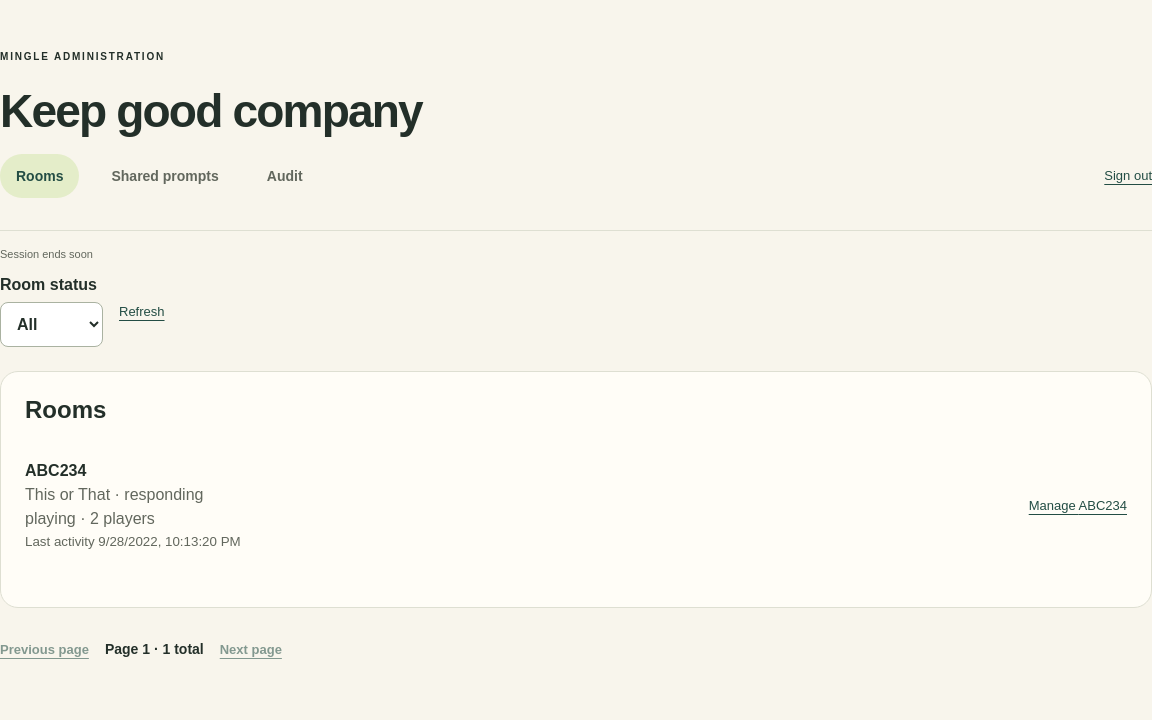
Test case: does not reoffer a confirmed mutation when refreshing room details fails
Click the button "Manage ABC234" at (1078,505), box [1029, 488, 1127, 522]
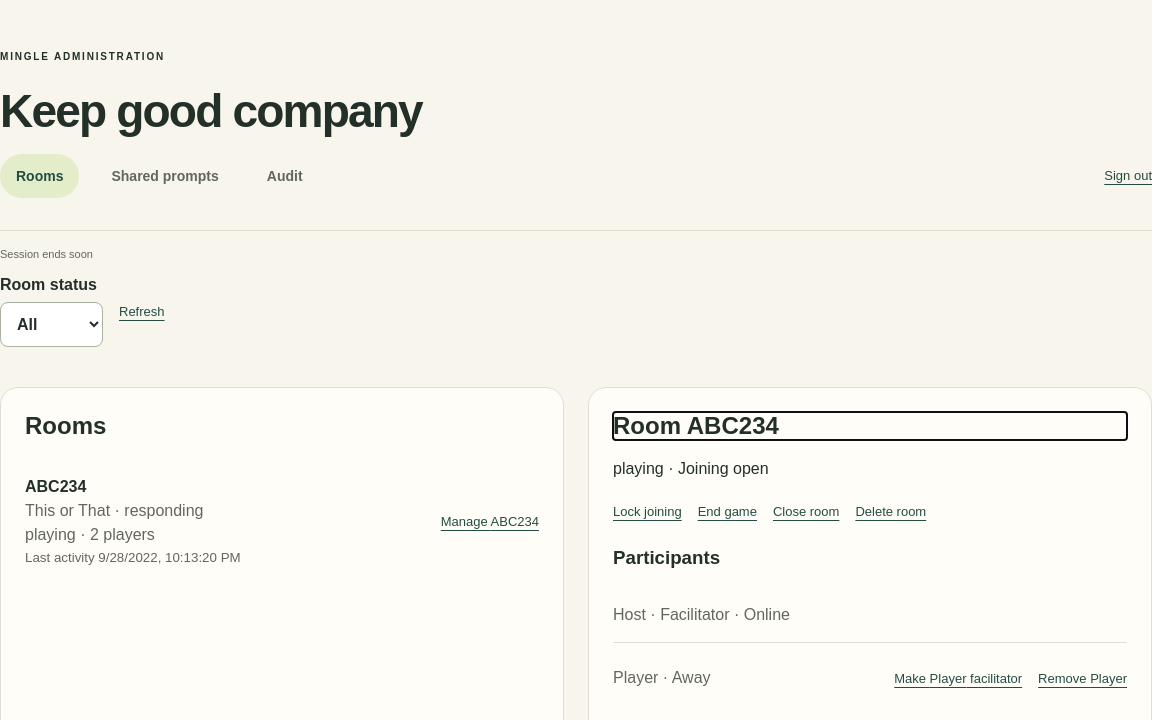
Click the button "Lock joining" at (647,511), box [613, 494, 682, 528]
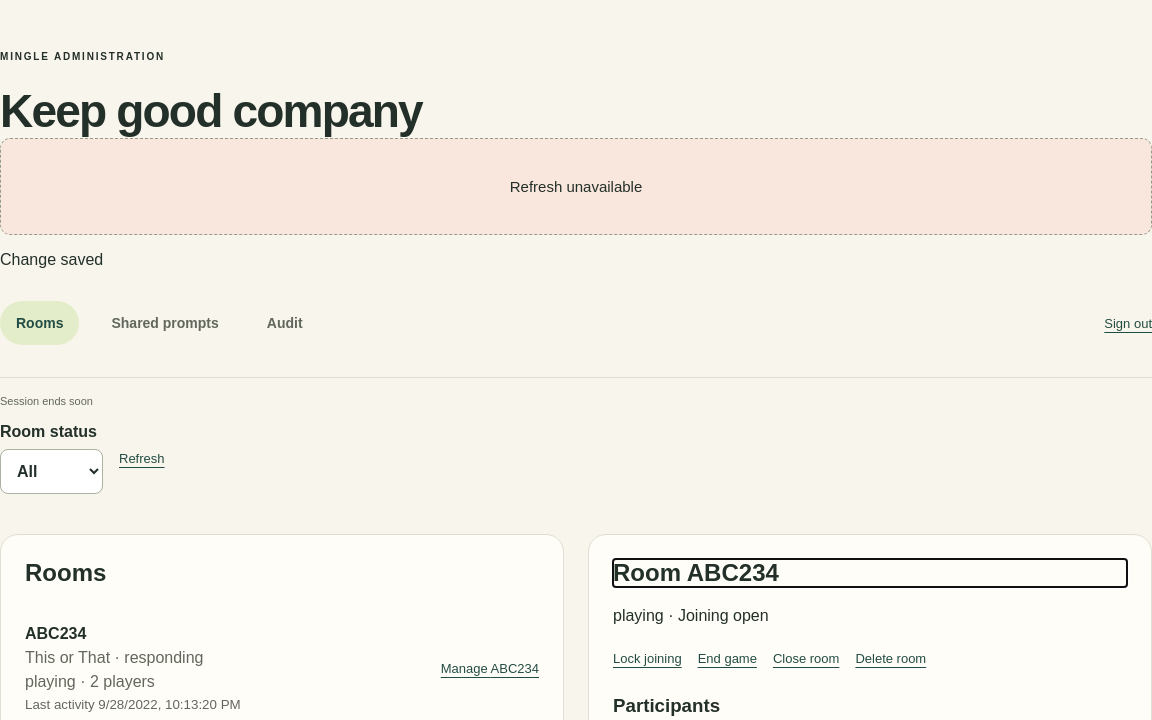
Check: the message "Refresh unavailable" is shown, box [0, 138, 1151, 235]
